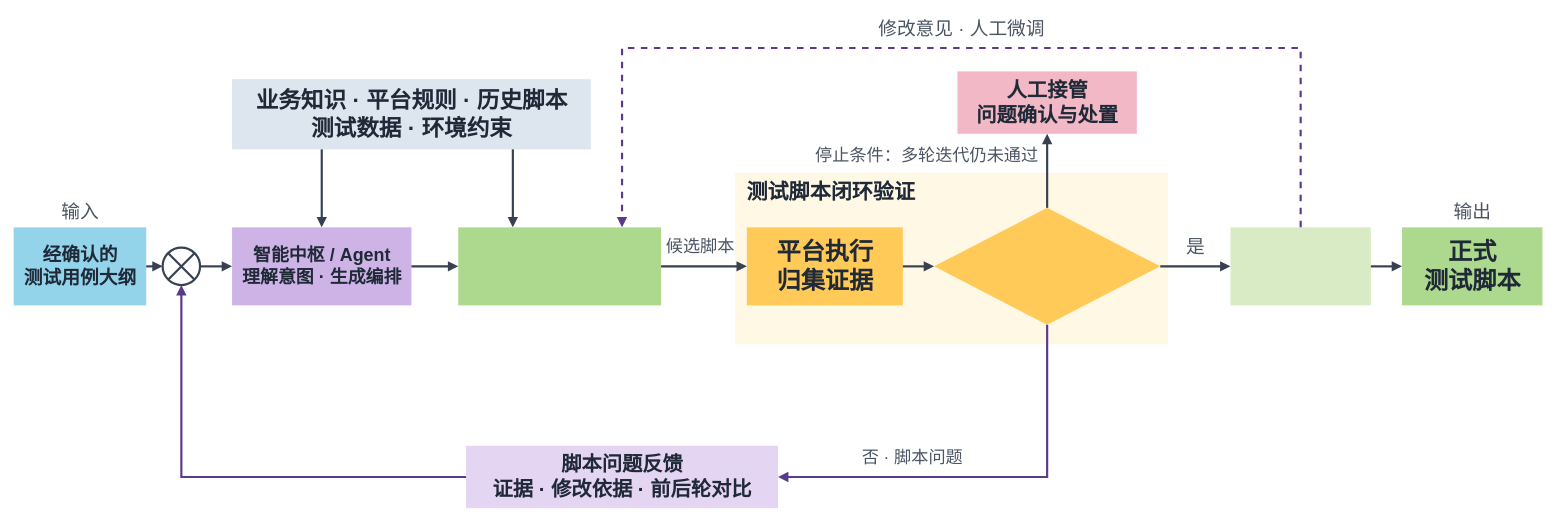
This 1555x522 diagram has some shape labels left out. Here are the shapes that lost their labels. From the top down, the centre of each, then its label:
(559,266): 脚本编制与生成工具 规则校验 · 确定性生成
(1047,265): 冒烟与有效性 验证通过？
(1300,266): 测试人员 审核确认
